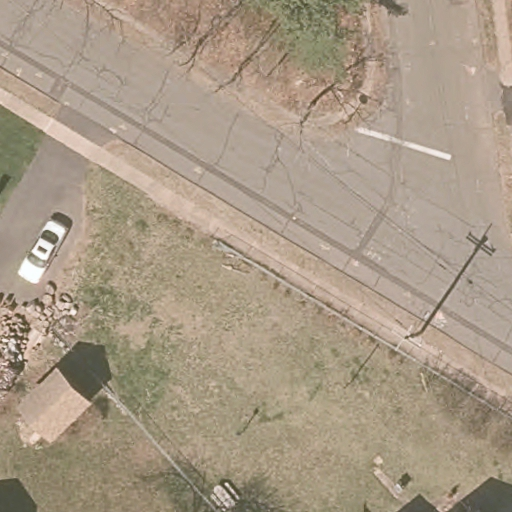DT: (392, 322, 424, 353)
